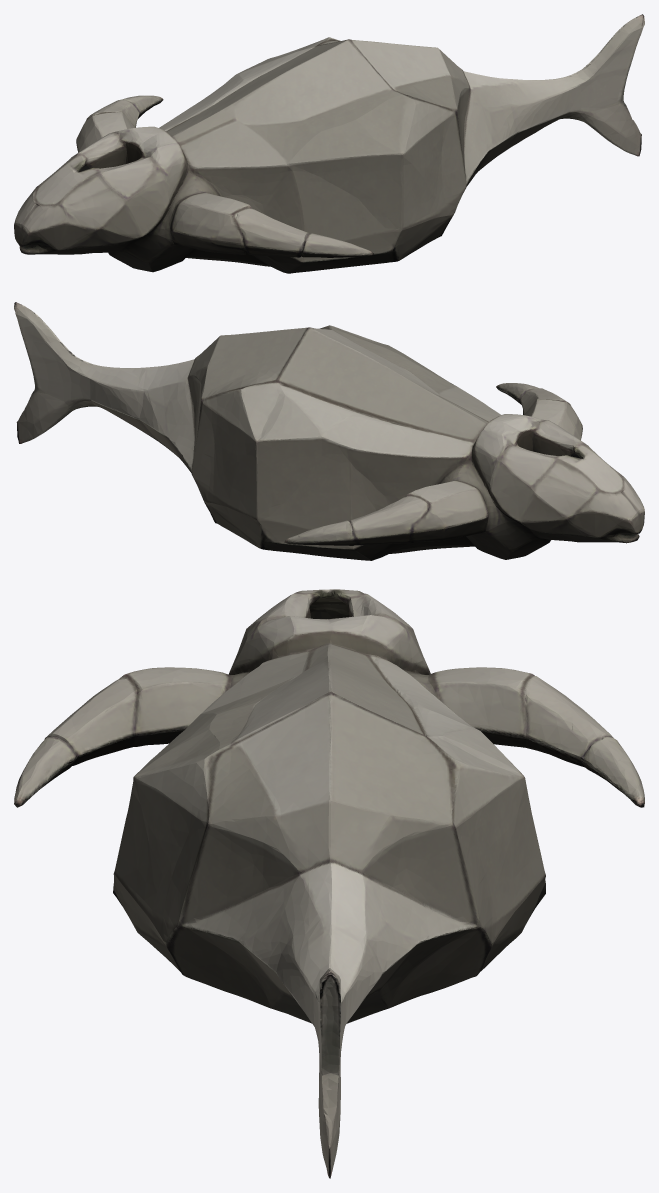
3 views of the same model, one above another, from view 1: azimuth 30°, elevation 25°; view 2: azimuth 150°, elevation 25°; view 3: azimuth 270°, elevation 25° (orthographic). The views are drawn at different scales.
Parts seen in each view (by area): view 1: world; view 2: world; view 3: world.
Part boxes in pixels (x1,y1,x2,y2): world: [14, 14, 644, 273]; world: [14, 302, 644, 560]; world: [14, 589, 644, 1178].
Bounding box in the file's own units: 1 × 0.3388 × 0.5918.
Materials: 1 (1 with a texture image).
